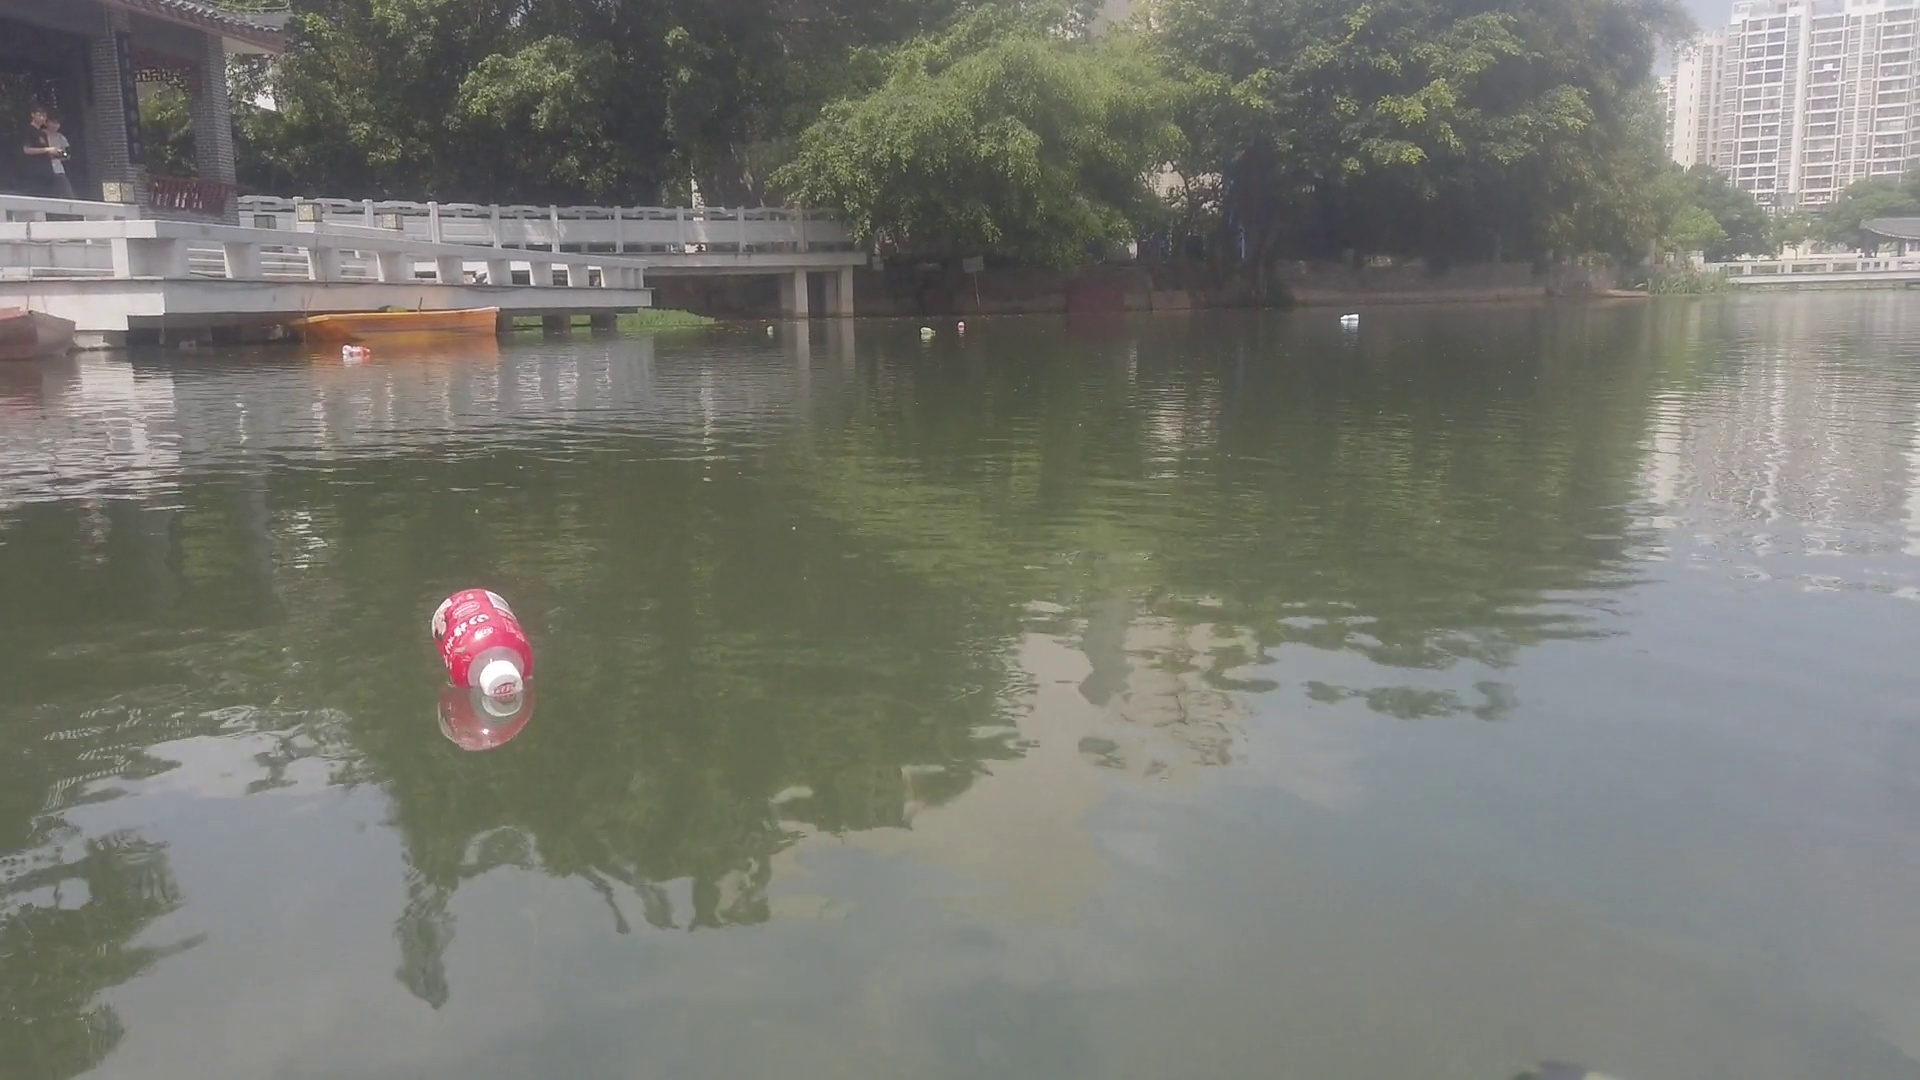bottle: (419, 578, 547, 699), (340, 338, 378, 360), (916, 323, 938, 338), (1337, 310, 1360, 320), (953, 316, 968, 328), (764, 320, 775, 334)
